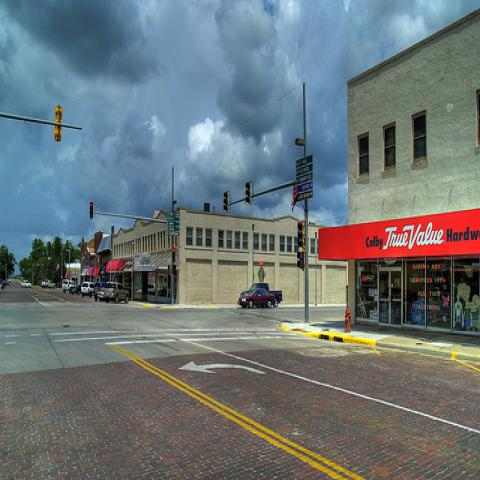car: (237, 288, 277, 309), (98, 281, 129, 304), (81, 282, 95, 298), (94, 282, 106, 300), (62, 281, 75, 293), (69, 284, 81, 296), (20, 281, 32, 288)
truck: (241, 283, 282, 308), (42, 280, 55, 289)
